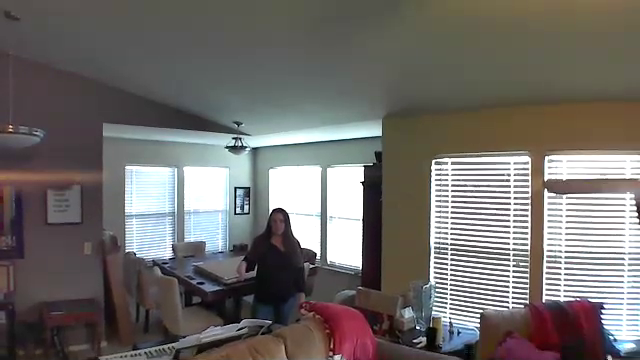down: (233, 257, 248, 287)
